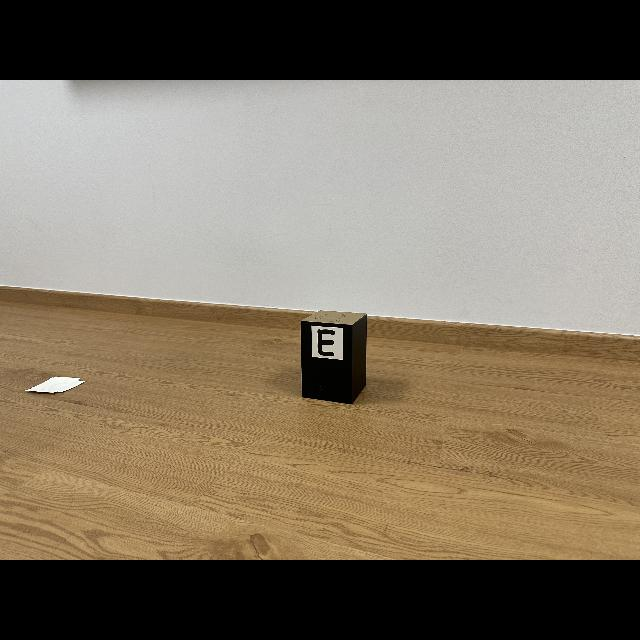E: (318, 329, 335, 356)
